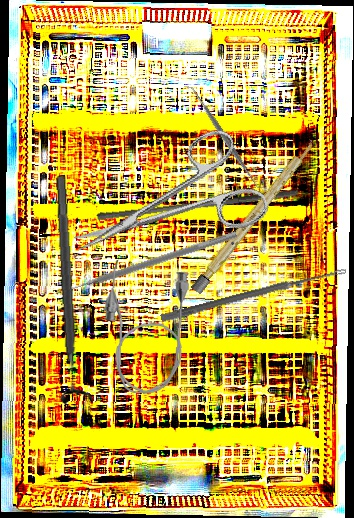Cannula: (100, 259, 190, 396)
Fixation Ring: (43, 173, 95, 406)
Iris Scissors: (55, 121, 273, 289)
Pusher: (96, 181, 300, 228)
Scalpel Handle: (190, 137, 318, 295)
Spatula Surgical: (59, 223, 238, 298), (183, 79, 265, 195)
Surgical Spoon: (160, 265, 347, 324)
